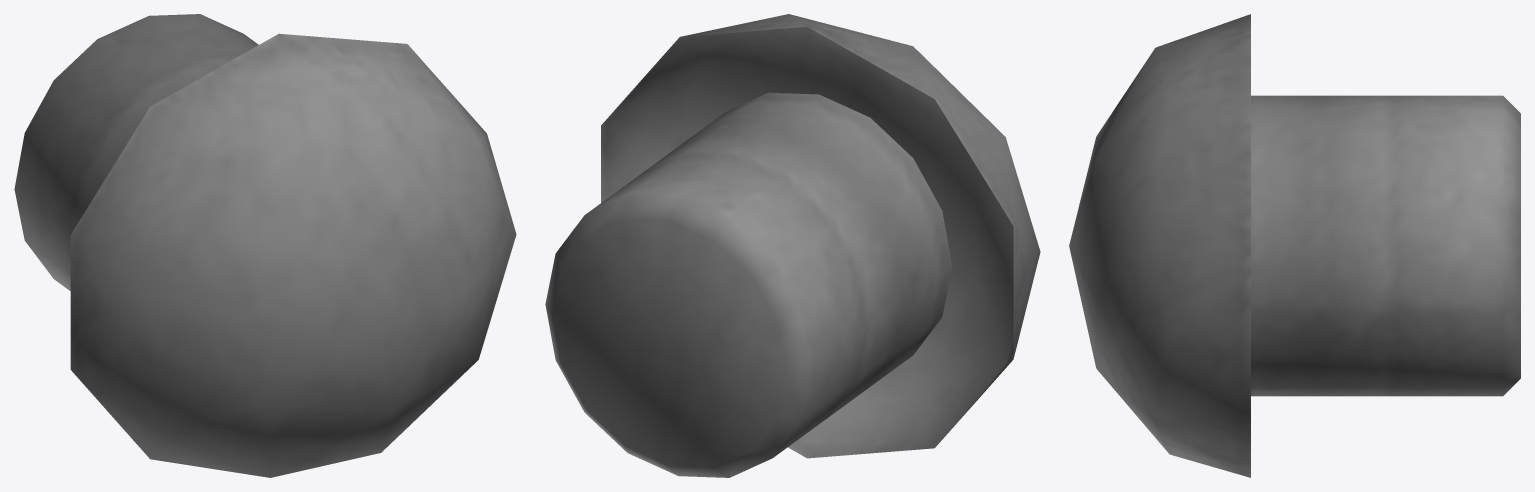
Rendered from scissors_visual_0.obj.
The picture shows the model from 3 angles, left to right: view 1: azimuth 30°, elevation 25°; view 2: azimuth 150°, elevation 25°; view 3: azimuth 270°, elevation 25°; orthographic projection. The views are drawn at different scales.
Size of the model in its own units: 0.0066 by 0.0066 by 0.00639.
1 material, 1 textured.
